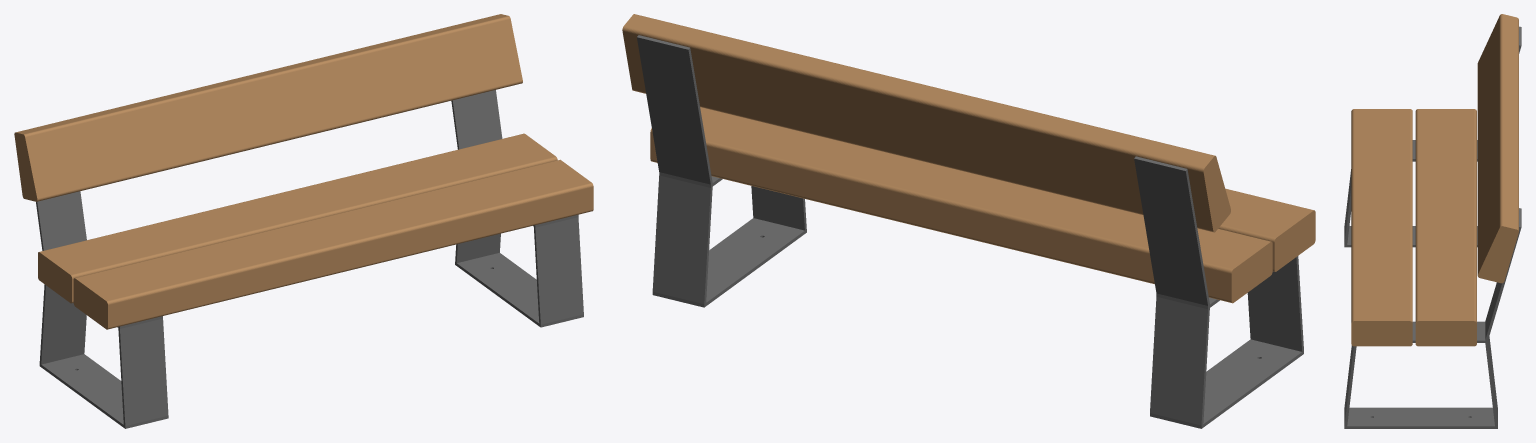
The model's file is Skamya_3.glb.
The picture shows the model from 3 angles, left to right: view 1: azimuth 30°, elevation 25°; view 2: azimuth 150°, elevation 25°; view 3: azimuth 270°, elevation 25°; orthographic projection. The views are drawn at different scales.
Visible parts, largest first — view 1: Fake; view 2: Fake; view 3: Fake.
Boxes of the visible parts, bbox=[...] form: Fake: bbox=[14, 14, 593, 428]; Fake: bbox=[622, 14, 1315, 428]; Fake: bbox=[1344, 14, 1521, 428].
Bounding box in the file's own units: 1.8 × 0.8258 × 0.6349.
